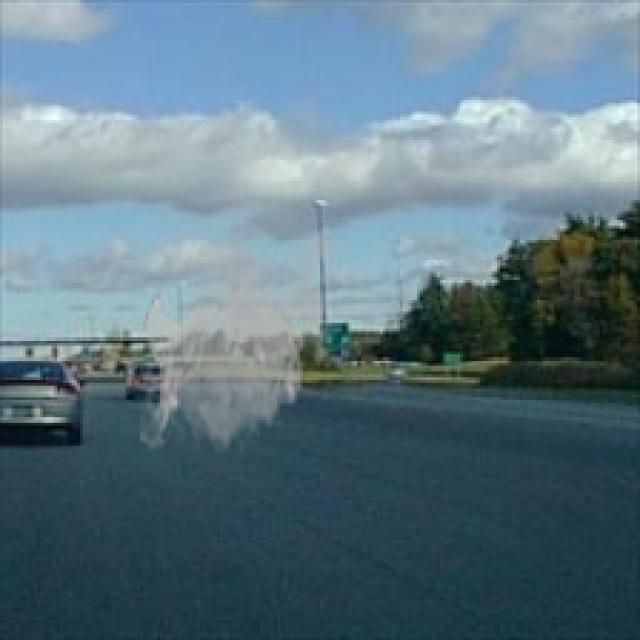smoke: (140, 200, 340, 457)
